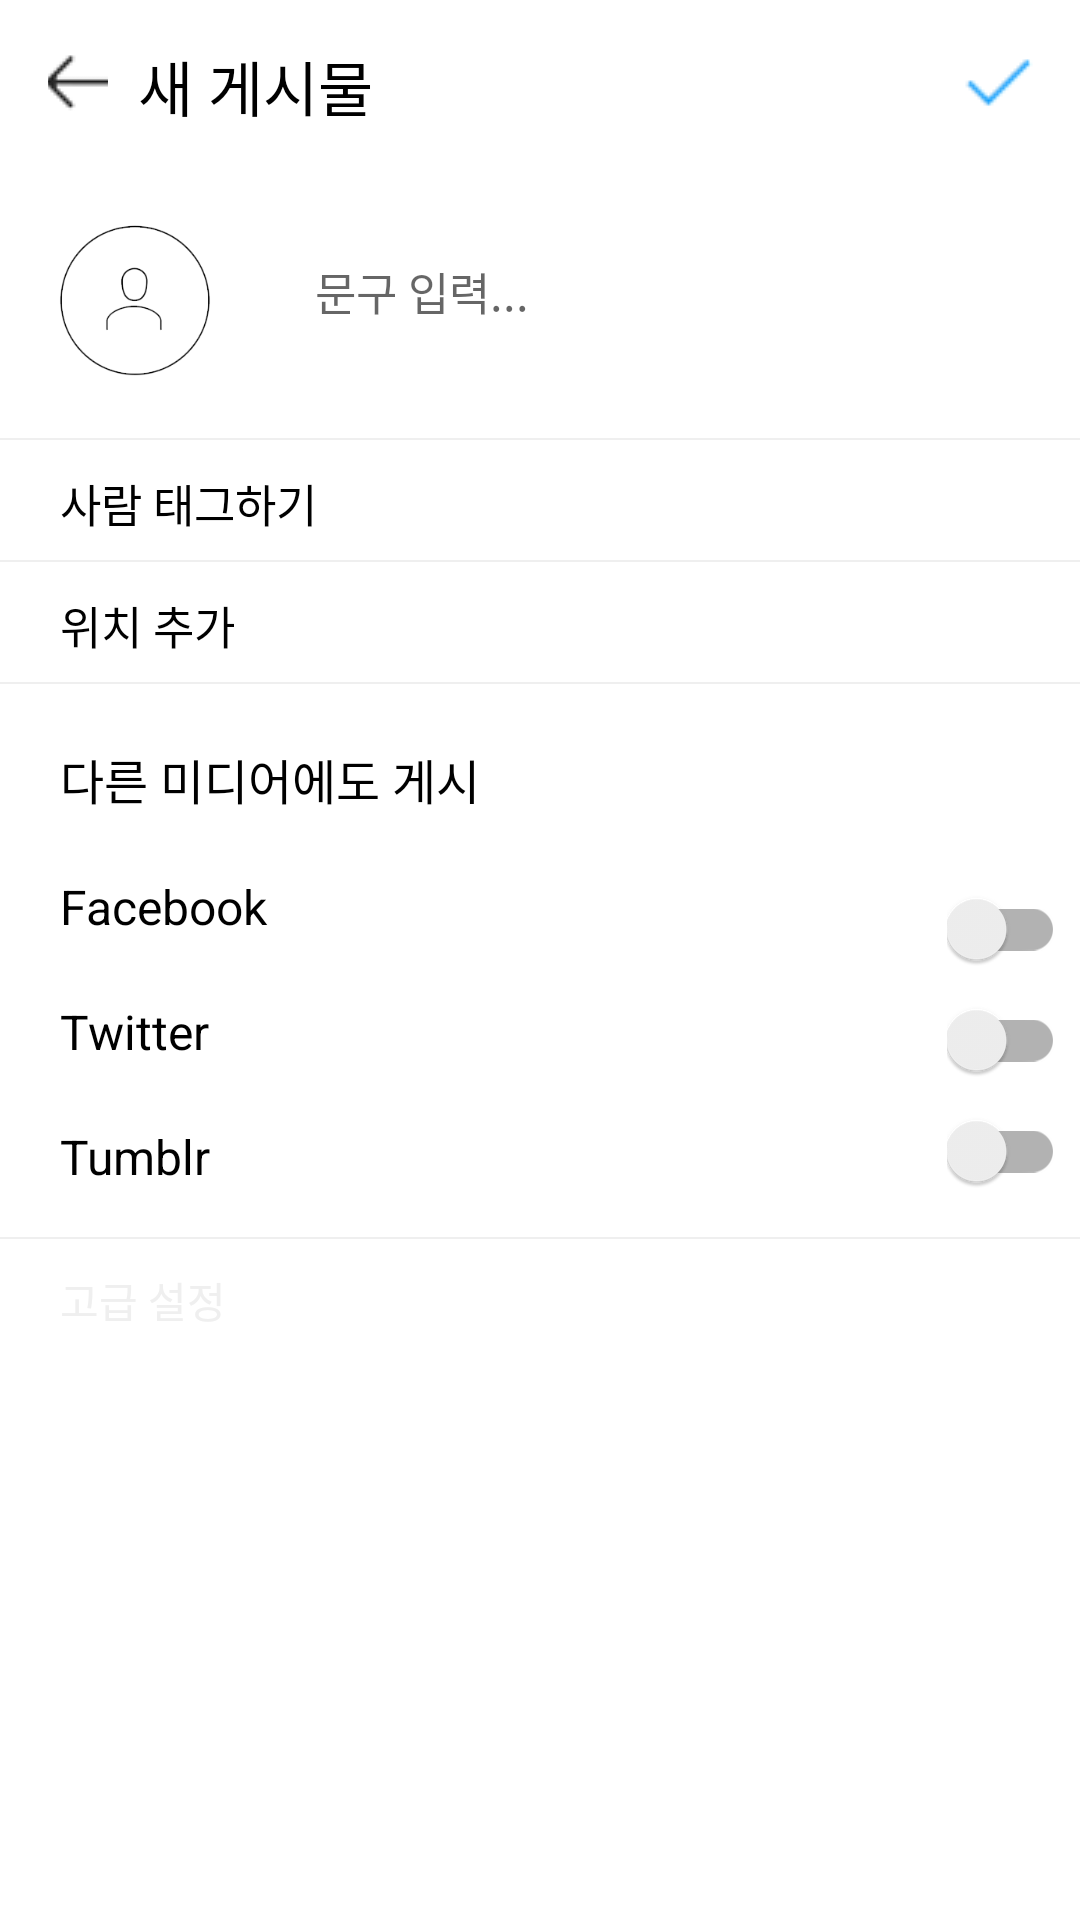

Where icons sit on this 1080x1920 app screen, as (x1, y1, x2, y2):
back arrow: (48, 55, 108, 109)
next check: (966, 59, 1031, 106)
